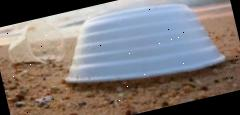general: (52, 0, 227, 98)
